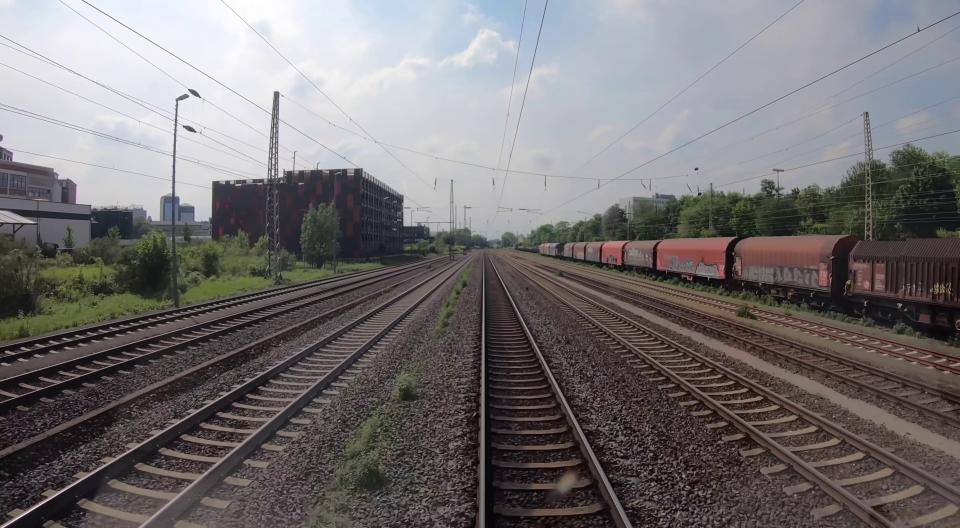Plant: (336, 417, 386, 491), (434, 264, 474, 338), (392, 371, 419, 401), (736, 304, 757, 320)
